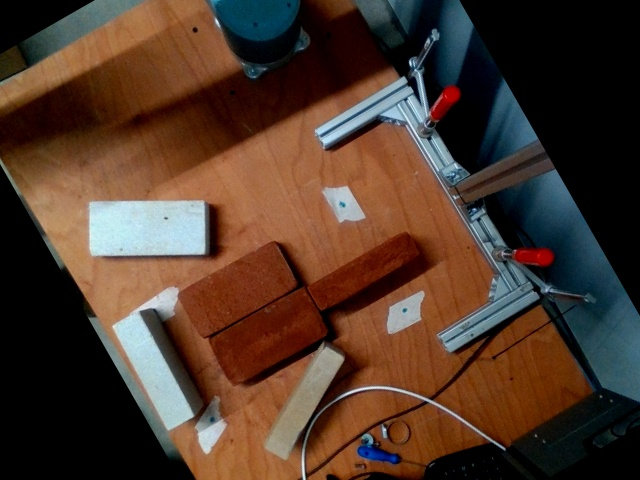brick: (208, 288, 328, 387), (178, 241, 297, 338)
brick-side: (111, 313, 192, 429), (264, 347, 343, 459), (309, 232, 419, 311), (89, 201, 203, 255)
